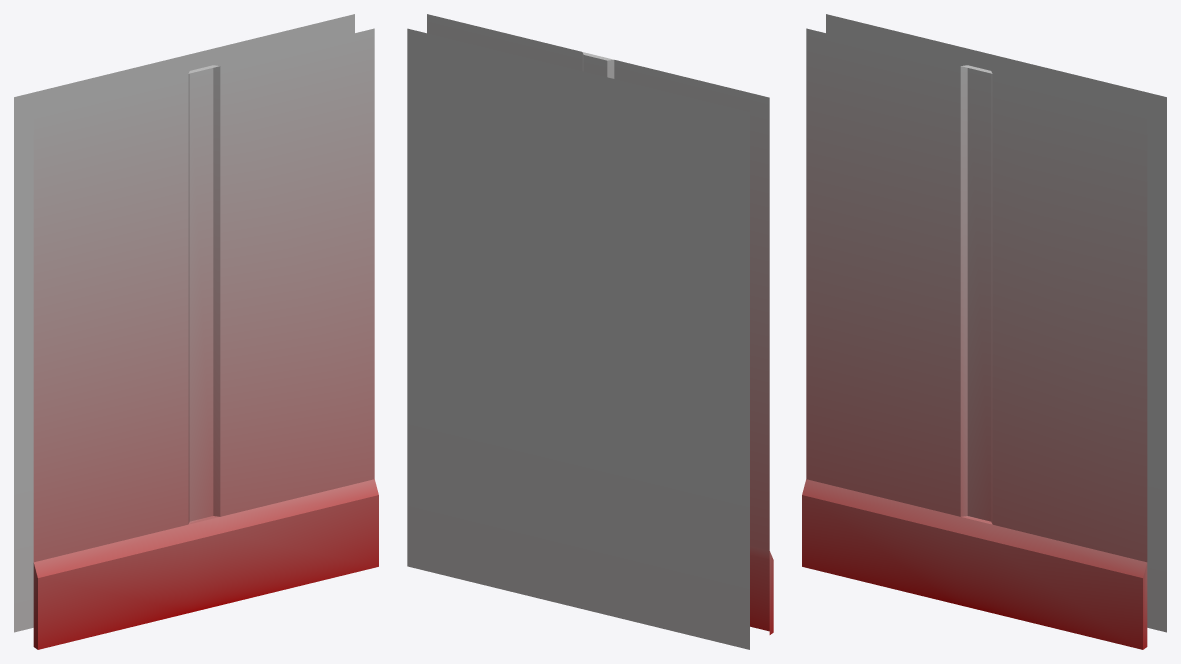
Rendered from Metal_FirstFloor_Wall.gltf.
The picture shows the model from 3 angles, left to right: view 1: azimuth 30°, elevation 25°; view 2: azimuth 150°, elevation 25°; view 3: azimuth 330°, elevation 25°; orthographic projection.
Parts seen in each view (by area): view 1: Metal_FirstFloor_Wall; view 2: Metal_FirstFloor_Wall; view 3: Metal_FirstFloor_Wall.
Boxes of the visible parts, x1,y1,x2,y2 form: Metal_FirstFloor_Wall: (14, 14, 378, 649); Metal_FirstFloor_Wall: (407, 14, 773, 649); Metal_FirstFloor_Wall: (802, 14, 1166, 649).
Size of what is drawn, in the model's own units: 2 by 3 by 0.242.
